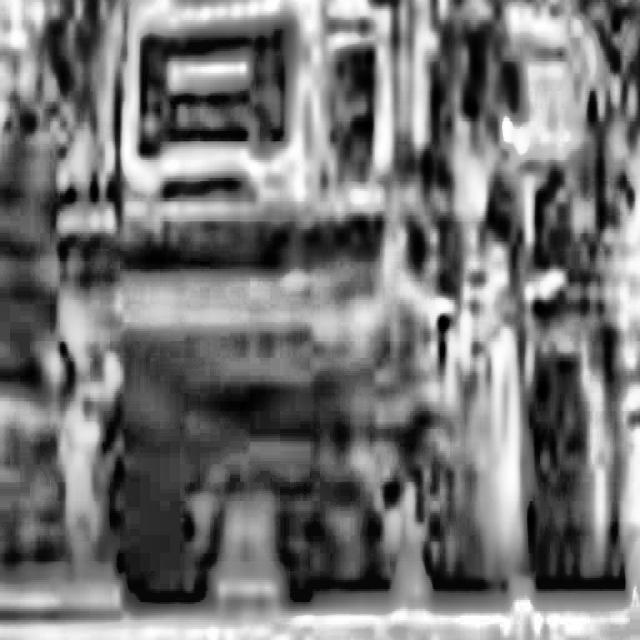dump_truck: (86, 0, 640, 631)
